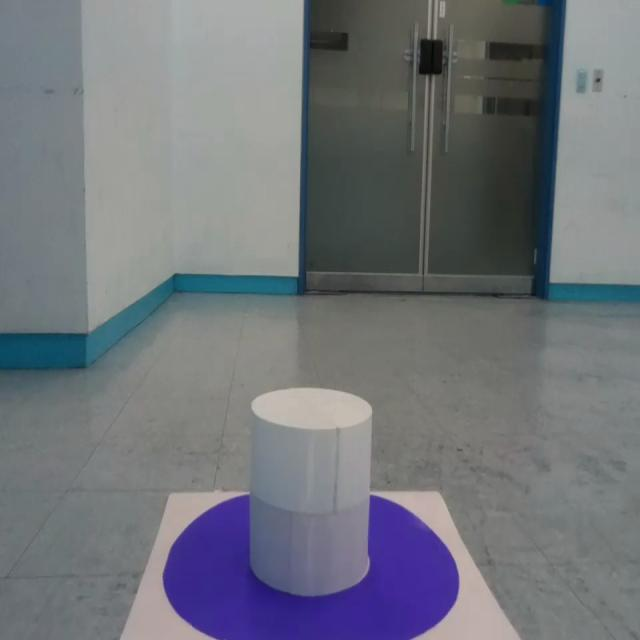cylinder: (246, 388, 372, 598)
